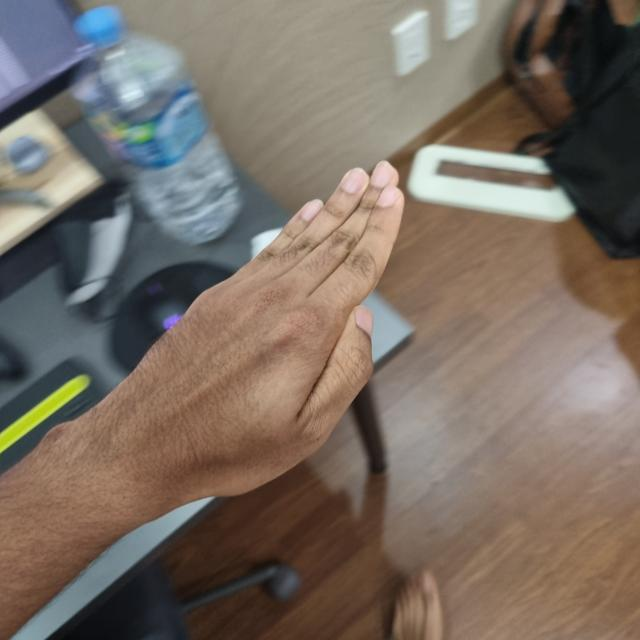Paper: (99, 229, 376, 499)
